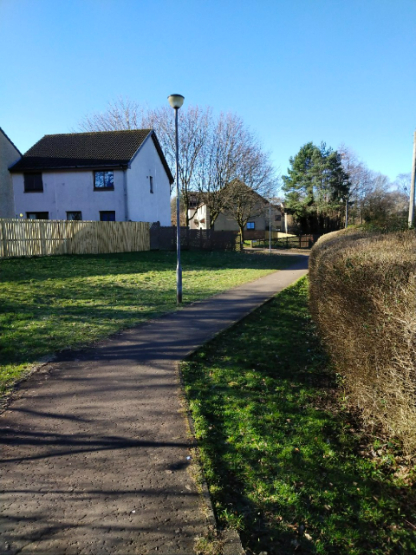tree: (226, 121, 276, 248), (280, 141, 351, 218), (163, 105, 205, 215), (201, 115, 233, 226)
